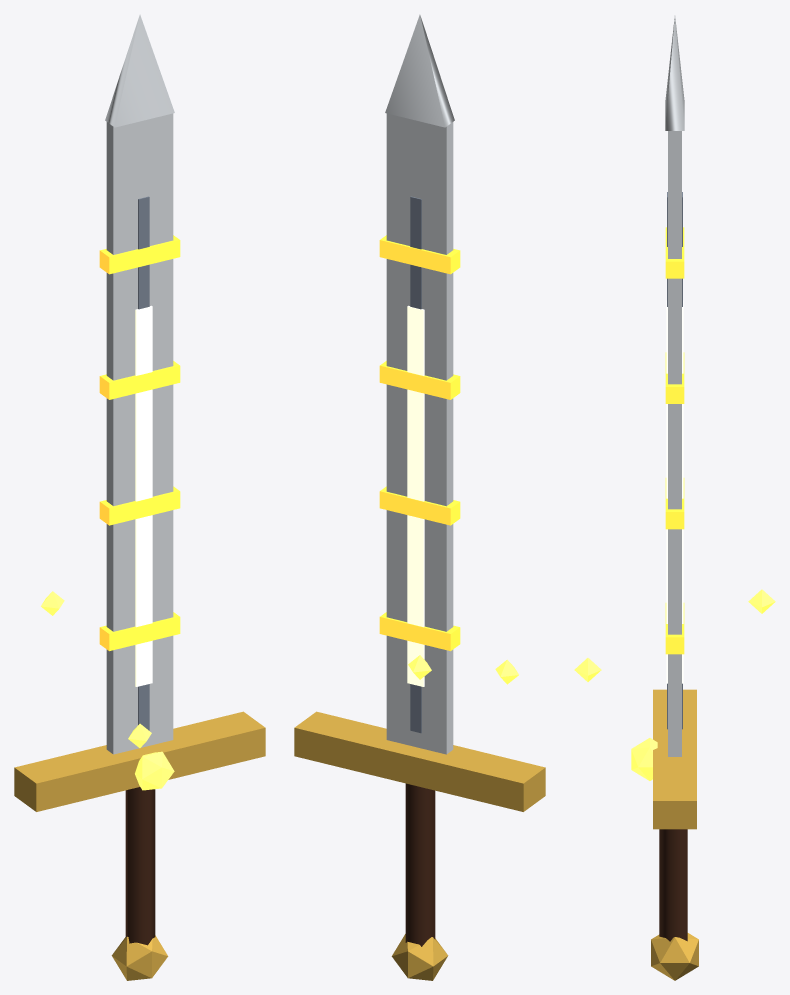
The model's file is legend_greatsword_oblivion.glb.
3 views of the same model, side by side, from view 1: azimuth 30°, elevation 25°; view 2: azimuth 150°, elevation 25°; view 3: azimuth 270°, elevation 25° (orthographic).
Parts seen in each view (by area): view 1: item_metal3, item_trim3, item_legendGlow, item_rune, item_leather3, item_darkMetal3, item_gem3, item_legendSpark; view 2: item_metal3, item_trim3, item_legendGlow, item_rune, item_leather3, item_darkMetal3, item_legendSpark; view 3: item_metal3, item_trim3, item_leather3, item_legendGlow, item_rune, item_gem3, item_legendSpark.
Boxes of the visible parts, bbox=[...] form: item_metal3: bbox=[105, 14, 174, 754]; item_trim3: bbox=[14, 711, 265, 980]; item_legendGlow: bbox=[99, 235, 180, 651]; item_rune: bbox=[135, 305, 152, 686]; item_leather3: bbox=[125, 787, 155, 945]; item_darkMetal3: bbox=[138, 196, 149, 730]; item_gem3: bbox=[135, 751, 174, 790]; item_legendSpark: bbox=[41, 591, 151, 747]; item_metal3: bbox=[385, 14, 454, 754]; item_trim3: bbox=[294, 711, 545, 980]; item_legendGlow: bbox=[379, 235, 460, 651]; item_rune: bbox=[407, 305, 424, 686]; item_leather3: bbox=[405, 783, 435, 946]; item_darkMetal3: bbox=[410, 196, 421, 733]; item_legendSpark: bbox=[408, 655, 518, 684]; item_metal3: bbox=[665, 16, 684, 756]; item_trim3: bbox=[651, 689, 698, 980]; item_leather3: bbox=[659, 829, 687, 941]; item_legendGlow: bbox=[665, 227, 684, 654]; item_rune: bbox=[666, 300, 683, 683]; item_gem3: bbox=[631, 738, 657, 780]; item_legendSpark: bbox=[574, 589, 775, 681].
Size of the model in its own units: 0.42 by 1.69 by 0.3211.
